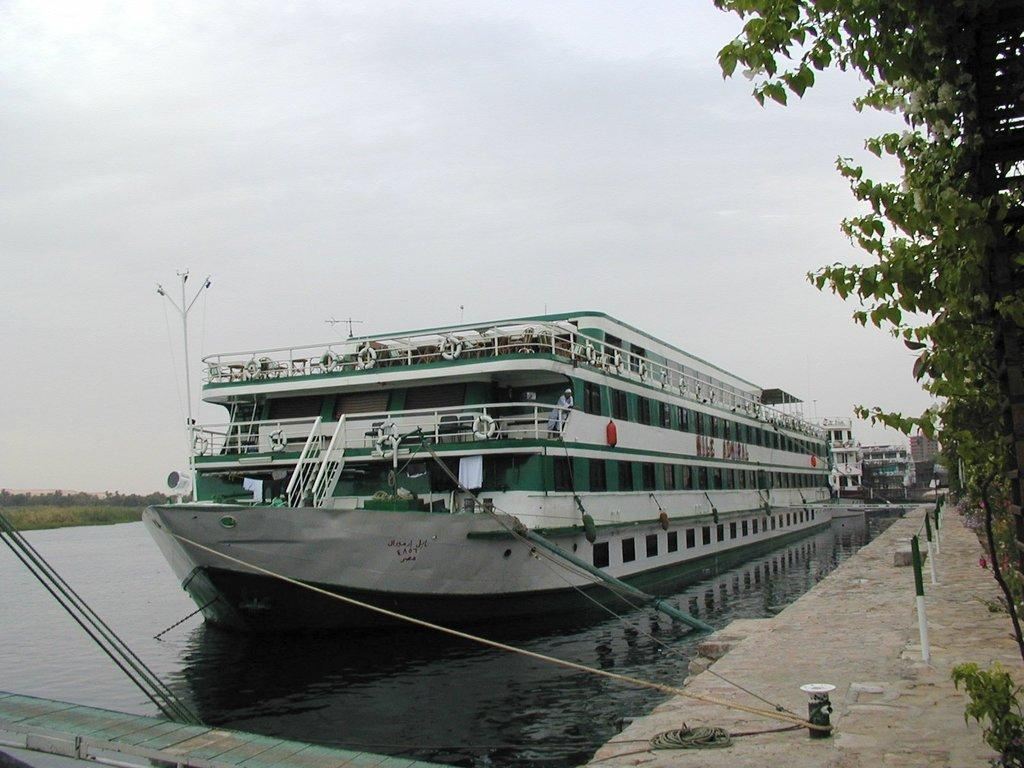PassengerShip: (137, 305, 857, 623)
